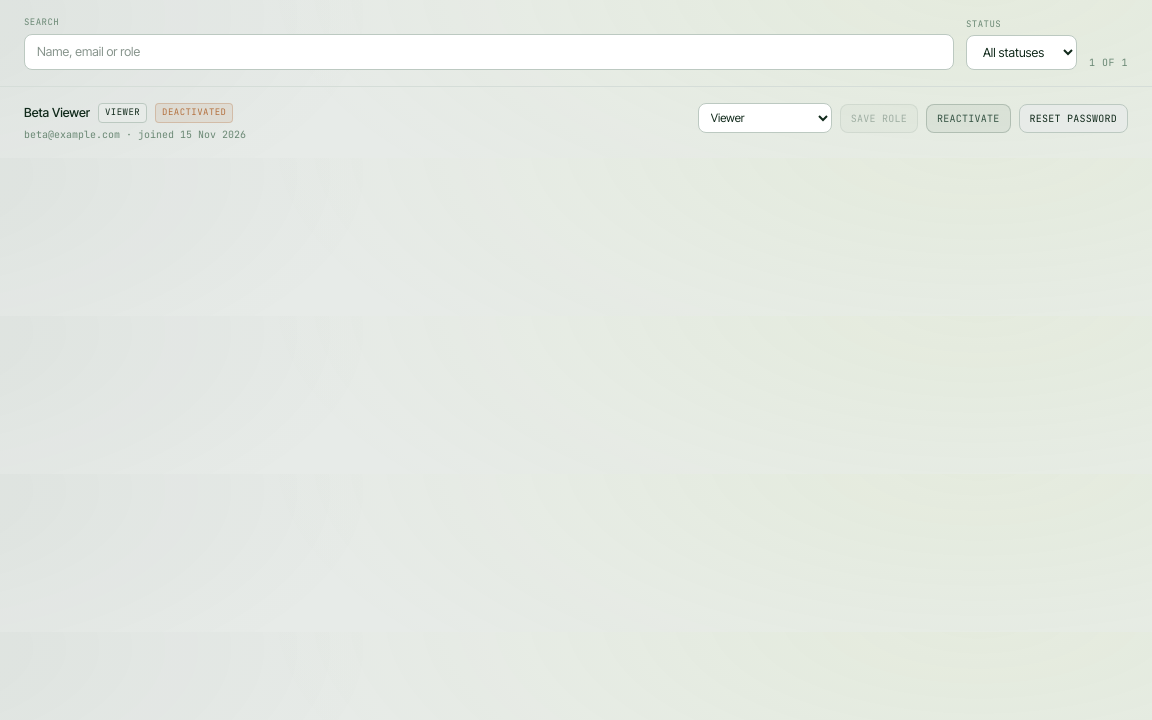
it: member roster › reactivates a suspended membership
Click the button "Reactivate" at point(968, 118), box [926,104,1010,133]
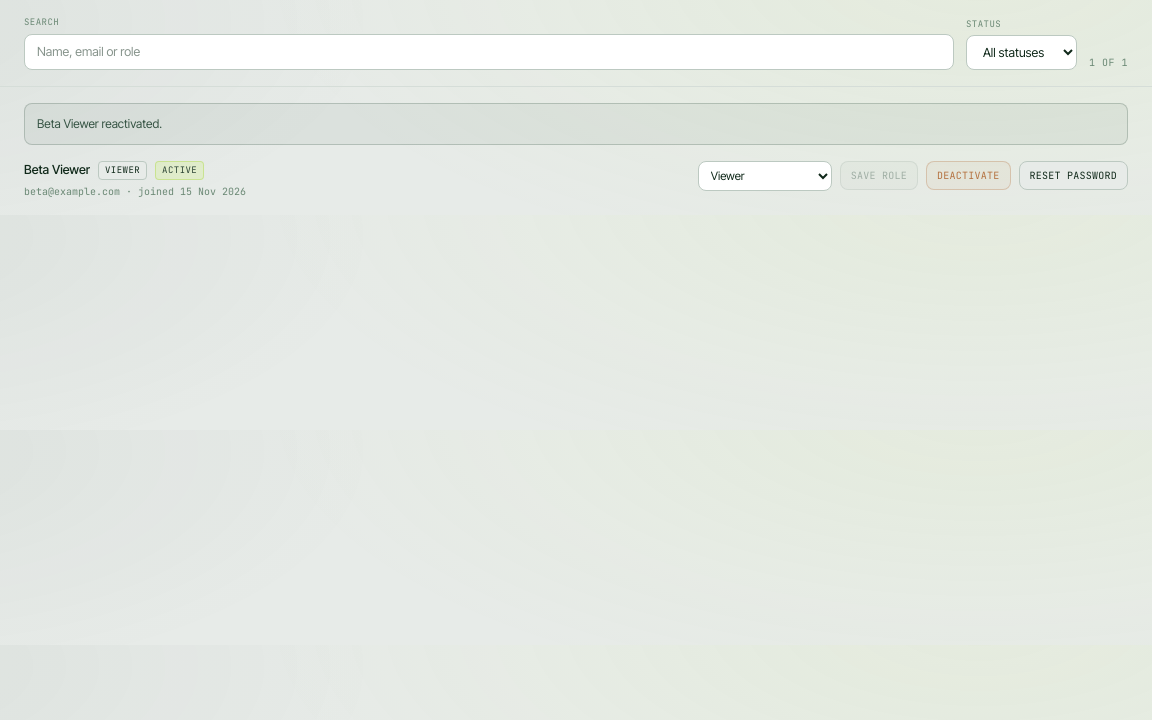
Check: the message "Beta Viewer reactivated." is shown, box [24,103,1128,145]
Check: the text "Active" is shown, box [155,161,204,180]
